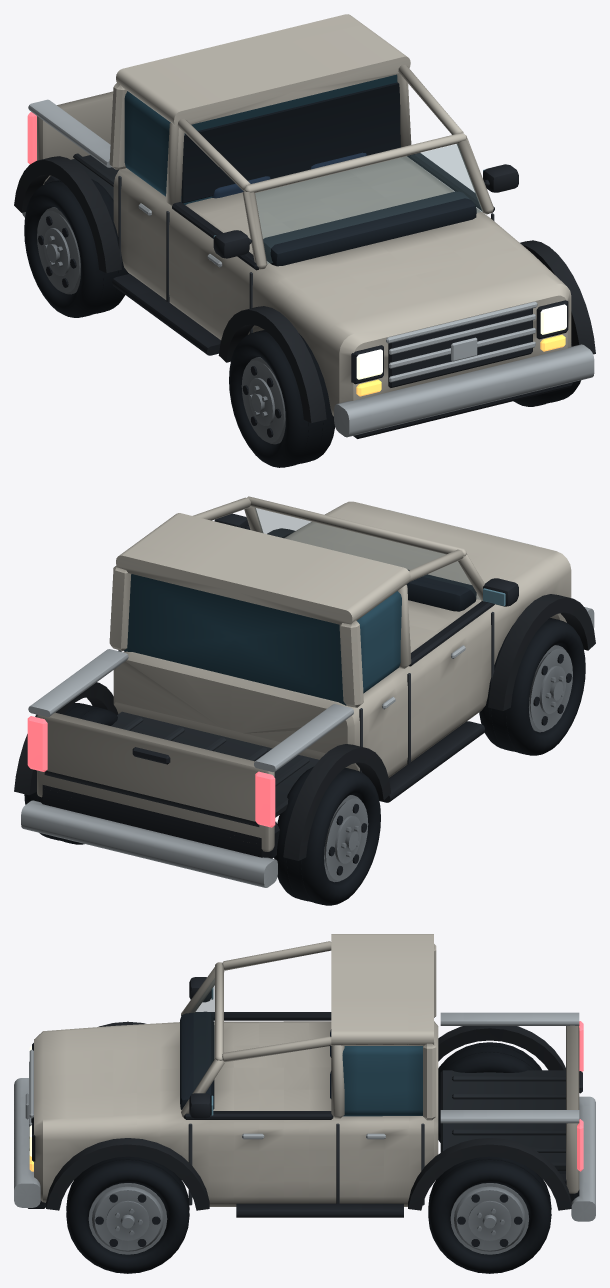
Rendered from white-empanade.glb.
3 renders of one model, top to bottom at view 1: azimuth 30°, elevation 25°; view 2: azimuth 150°, elevation 25°; view 3: azimuth 270°, elevation 25°, orthographic. The views are drawn at different scales.
Visible parts, largest first — view 1: white-empanade-hull, white-empanade-roof, white-empanade-bulkhead, white-empanade-windscreen, white-empanade-flares, white-empanade-bumpers, white-empanade-dark, white-empanade-dashboard, white-empanade-tire-front-right.001, white-empanade-tire-rear-right.001, white-empanade-windscreen-frame, white-empanade-greenhouse-glass (+15 smaller); view 2: white-empanade-hull, white-empanade-greenhouse-glass, white-empanade-roof, white-empanade-bed-sides, white-empanade-flares, white-empanade-bumpers, white-empanade-tire-rear-right.001, white-empanade-tire-front-right.001, white-empanade-bed-floor, white-empanade-windscreen, white-empanade-bed-under, white-empanade-rails (+12 smaller); view 3: white-empanade-hull, white-empanade-roof, white-empanade-flares, white-empanade-bed-floor, white-empanade-tire-rear-left.001, white-empanade-tire-front-left.001, white-empanade-greenhouse-glass, white-empanade-bumpers, white-empanade-rim-rear-left.001, white-empanade-windscreen-frame, white-empanade-rim-front-left.001, white-empanade-rails (+12 smaller).
Boxes of the visible parts, box(x1,y1,x2,y2) form: white-empanade-hull: box(113, 156, 571, 416); white-empanade-roof: box(116, 14, 410, 127); white-empanade-bulkhead: box(181, 82, 400, 203); white-empanade-windscreen: box(255, 144, 482, 263); white-empanade-flares: box(14, 156, 595, 422); white-empanade-bumpers: box(22, 212, 594, 437); white-empanade-dark: box(112, 274, 572, 438); white-empanade-dashboard: box(263, 191, 476, 266); white-empanade-tire-front-right.001: box(229, 330, 334, 467); white-empanade-tire-rear-right.001: box(24, 179, 129, 317); white-empanade-windscreen-frame: box(177, 64, 493, 269); white-empanade-greenhouse-glass: box(124, 74, 400, 204); white-empanade-hull: box(113, 501, 571, 777); white-empanade-greenhouse-glass: box(124, 574, 401, 705); white-empanade-roof: box(116, 513, 410, 624); white-empanade-bed-sides: box(37, 712, 274, 851); white-empanade-flares: box(14, 528, 595, 860); white-empanade-bumpers: box(21, 607, 594, 887); white-empanade-tire-rear-right.001: box(274, 766, 380, 905); white-empanade-tire-front-right.001: box(479, 618, 585, 755); white-empanade-bed-floor: box(44, 711, 319, 826); white-empanade-windscreen: box(255, 508, 480, 599); white-empanade-bed-under: box(40, 785, 279, 858); white-empanade-rails: box(28, 649, 353, 771); white-empanade-hull: box(34, 1021, 438, 1206); white-empanade-roof: box(331, 934, 433, 1045); white-empanade-flares: box(46, 1021, 571, 1210); white-empanade-bed-floor: box(440, 1070, 565, 1170); white-empanade-tire-rear-left.001: box(428, 1156, 551, 1273); white-empanade-tire-front-left.001: box(66, 1156, 189, 1273); white-empanade-greenhouse-glass: box(342, 1046, 422, 1116); white-empanade-bumpers: box(14, 1078, 595, 1221); white-empanade-rim-rear-left.001: box(450, 1183, 529, 1254); white-empanade-windscreen-frame: box(181, 941, 331, 1117); white-empanade-rim-front-left.001: box(88, 1183, 167, 1254); white-empanade-rails: box(440, 1012, 579, 1123).
Size of the model in its own units: 2.76 by 2.28 by 5.21.
